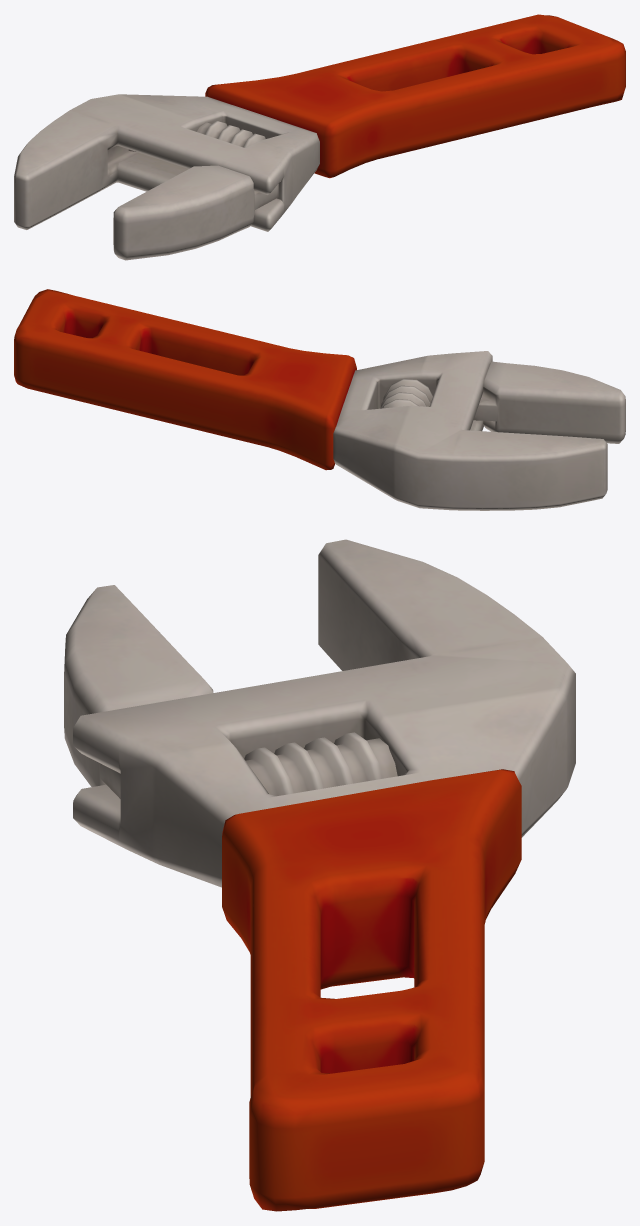
File: StackUp_MonkeySpanner.fbx
The picture shows the model from 3 angles, top to bottom: view 1: azimuth 30°, elevation 25°; view 2: azimuth 150°, elevation 25°; view 3: azimuth 270°, elevation 25°; orthographic projection. The views are drawn at different scales.
Visible parts, largest first — view 1: StackUp_MonkeySpanner; view 2: StackUp_MonkeySpanner; view 3: StackUp_MonkeySpanner.
Boxes of the visible parts, x1=… form: StackUp_MonkeySpanner: x1=14, y1=14, x2=625, y2=260; StackUp_MonkeySpanner: x1=14, y1=289, x2=625, y2=510; StackUp_MonkeySpanner: x1=64, y1=539, x2=575, y2=1211.
Size of the model in its own units: 27.29 by 2.5 by 10.33.
